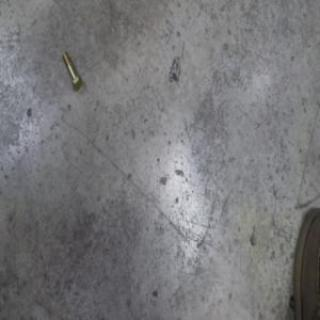Bolttrack_idkeyframe: (61, 49, 82, 90)
